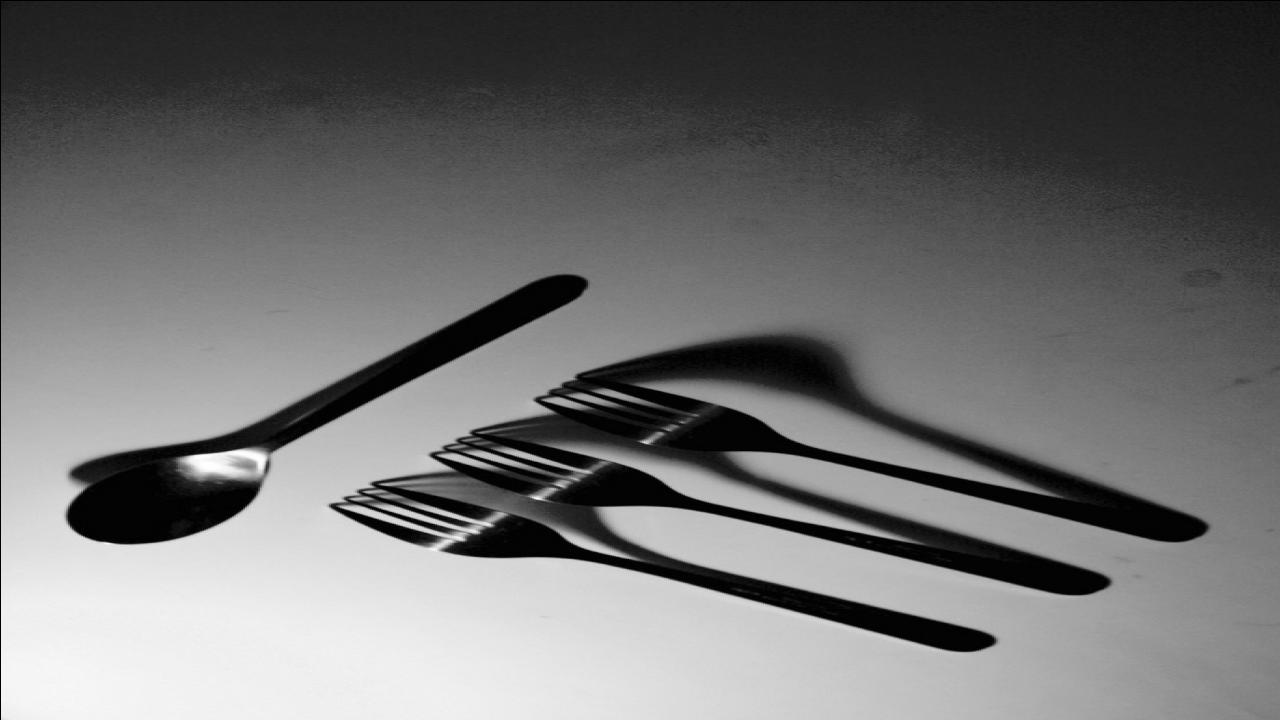fork: (322, 480, 1000, 656), (417, 426, 1110, 598), (527, 375, 1211, 546)
